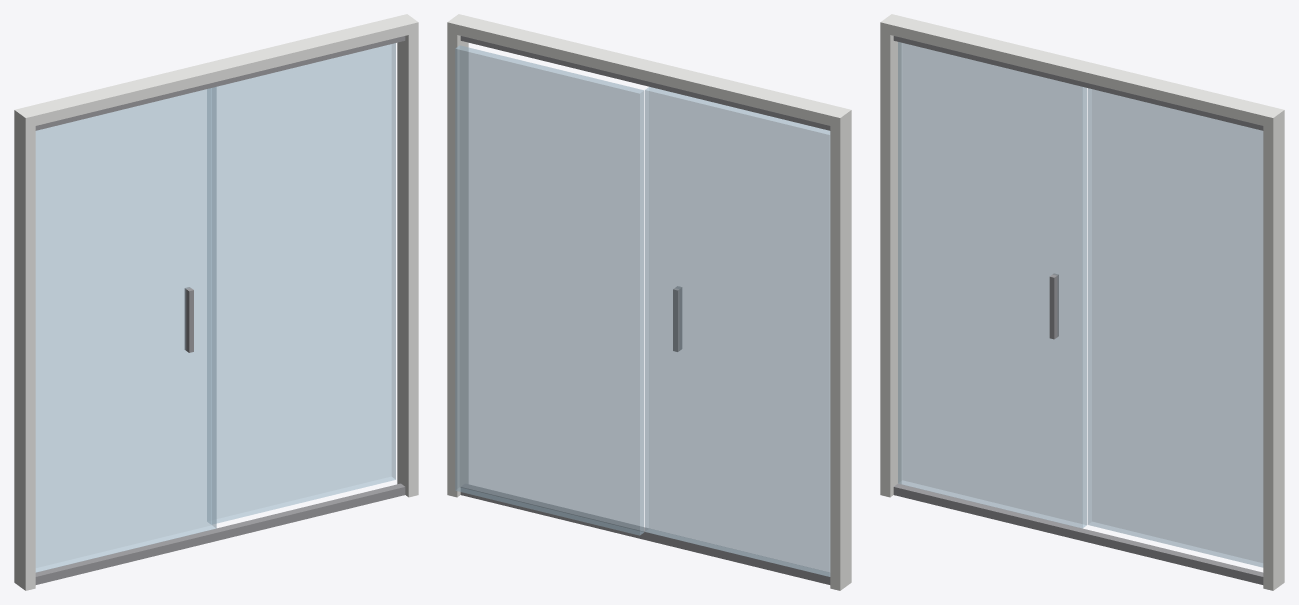
File: mod_door_slide_double.glb
The picture shows the model from 3 angles, left to right: view 1: azimuth 30°, elevation 25°; view 2: azimuth 150°, elevation 25°; view 3: azimuth 330°, elevation 25°; orthographic projection.
Visible parts, largest first — view 1: leaf_minor, leaf_main, frame_left, frame_right, frame_top, rail_bottom, rail_top, handle; view 2: leaf_minor, leaf_main, frame_left, frame_right, frame_top, rail_bottom, rail_top, handle; view 3: leaf_main, leaf_minor, frame_right, frame_left, frame_top, rail_bottom, rail_top, handle.
Boxes of the visible parts, box(x1,y1,x2,y2) form: leaf_minor: box(207, 43, 395, 524); leaf_main: box(35, 87, 216, 572); frame_left: box(14, 107, 35, 590); frame_right: box(397, 14, 418, 497); frame_top: box(14, 16, 417, 127); rail_bottom: box(35, 483, 405, 584); rail_top: box(35, 36, 405, 130); handle: box(184, 287, 193, 352); leaf_minor: box(455, 45, 644, 535); leaf_main: box(645, 87, 830, 576); frame_left: box(830, 107, 851, 590); frame_right: box(447, 14, 468, 497); frame_top: box(447, 16, 851, 127); rail_bottom: box(460, 484, 830, 584); rail_top: box(460, 36, 830, 130); handle: box(673, 286, 681, 351); leaf_main: box(898, 42, 1086, 528); leaf_minor: box(1087, 88, 1263, 567); frame_right: box(1263, 107, 1284, 590); frame_left: box(880, 14, 901, 497); frame_top: box(880, 16, 1284, 128); rail_bottom: box(893, 483, 1263, 584); rail_top: box(893, 36, 1263, 130); handle: box(1049, 273, 1058, 339).
Bounding box in the file's own units: 2 × 2.3 × 0.135.
